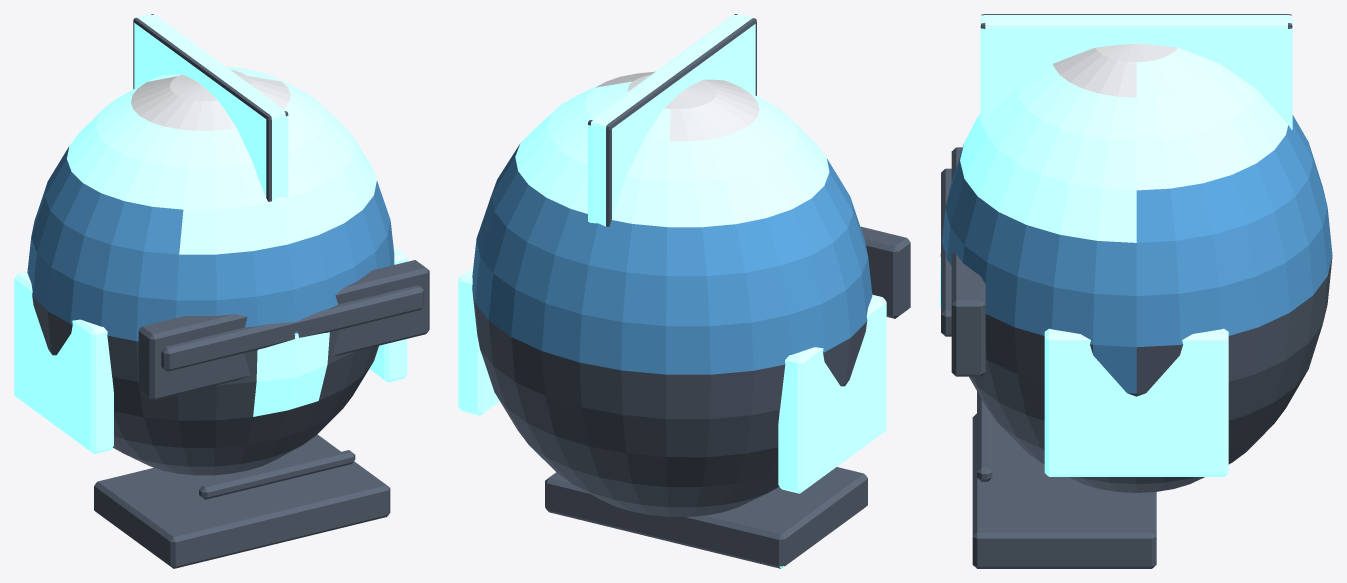
File: helmet__sleek.glb
3 renders of one model, left to right at view 1: azimuth 30°, elevation 25°; view 2: azimuth 150°, elevation 25°; view 3: azimuth 270°, elevation 25°, orthographic. The views are drawn at different scales.
Parts seen in each view (by area): view 1: armor_helmet__sleek_v001; view 2: armor_helmet__sleek_v001; view 3: armor_helmet__sleek_v001.
Boxes of the visible parts, x1,y1,x2,y2 form: armor_helmet__sleek_v001: (14, 14, 429, 568); armor_helmet__sleek_v001: (458, 14, 910, 568); armor_helmet__sleek_v001: (939, 14, 1332, 568).
Bounding box in the file's own units: 0.2799 × 0.3496 × 0.254.
